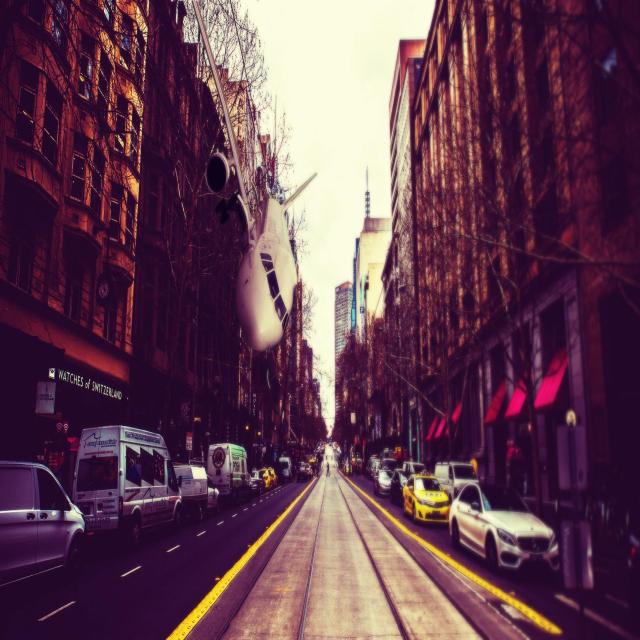airplane: (190, 0, 318, 353)
